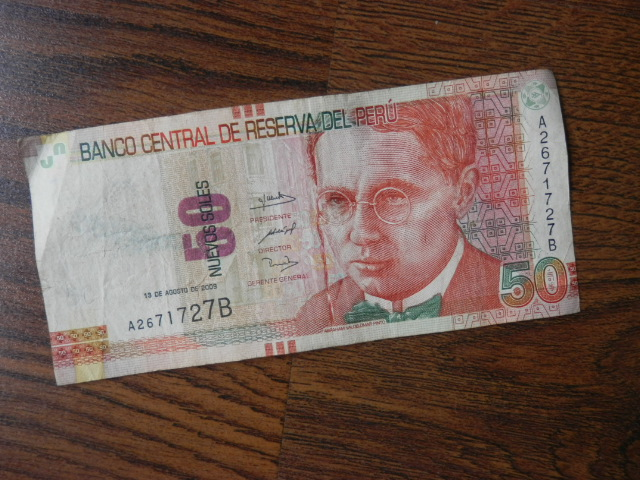B50: (19, 103, 586, 333)
